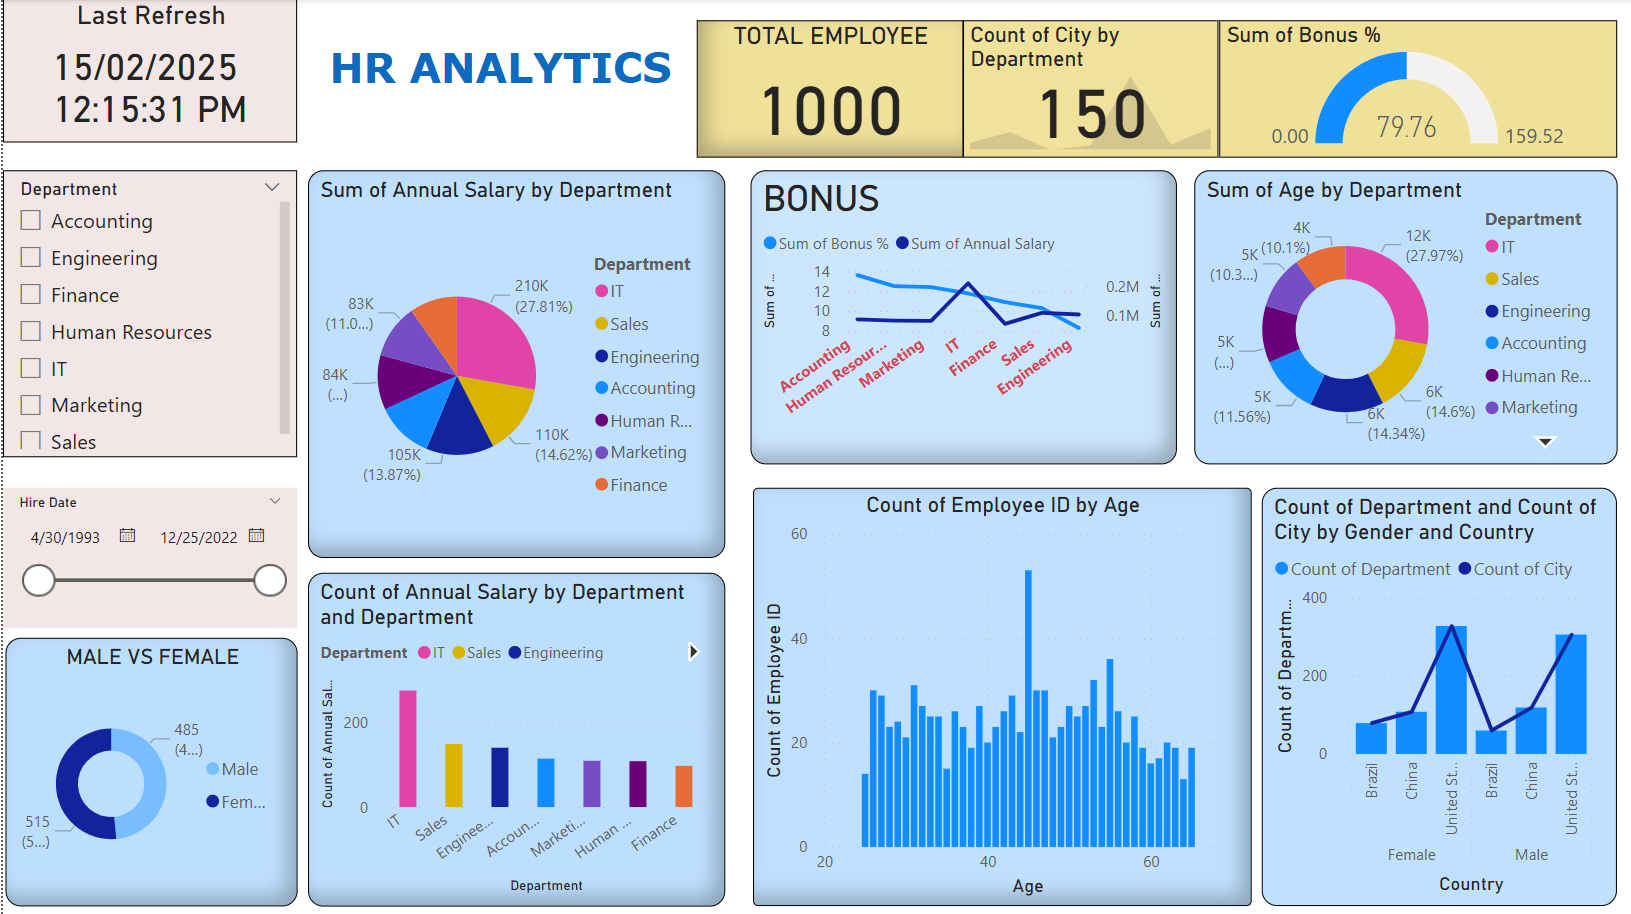

Layout of this report page (visuals, bound fields, positions):
{"tool":"powerbi","page":{"name":"HR Analysis","canvas":[1280,720],"ordinal":0},"visuals":[{"type":"card","title":"TOTAL EMPLOYEE","fields":{"Values":["Count(Employee Data.Employee ID)"]},"box":[545.4,16.3,209.3,108.1],"z":0},{"type":"lineChart","title":"BONUS","fields":{"Category":["Employee Data.Department"],"Y":["Sum(Employee Data.Bonus %)"],"Y2":["Sum(Employee Data.Annual Salary)"]},"box":[587.2,134.9,334.9,231.4],"z":1000},{"type":"donutChart","title":"MALE VS FEMALE","fields":{"Y":["Employee Data.Measure","Employee Data.Measure 2"]},"box":[2.3,502.3,229.1,217.4],"z":4000},{"type":"clusteredColumnChart","fields":{"Category":["Employee Data.Age"],"Y":["CountNonNull(Employee Data.Employee ID)"]},"box":[589.5,383.7,391.9,320.9],"z":5000},{"type":"pieChart","fields":{"Category":["Employee Data.Department"],"Y":["Sum(Employee Data.Annual Salary)"]},"box":[239.5,134.9,327.9,304.7],"z":7000},{"type":"ribbonChart","fields":{"Category":["Employee Data.Department"],"Y":["CountNonNull(Employee Data.Annual Salary)"],"Series":["Employee Data.Department"]},"box":[239.5,451.2,327.9,253.5],"z":8000},{"type":"kpi","fields":{"Indicator":["CountNonNull(Employee Data.City)"],"TrendLine":["Employee Data.Department"]},"box":[754.7,16.3,201.2,108.1],"z":9000},{"type":"gauge","fields":{"Y":["Sum(Employee Data.Bonus %)"]},"box":[955.8,16.3,312.8,108.1],"z":10000},{"type":"slicer","fields":{"Values":["Employee Data.Department"]},"box":[0,134.9,231.4,225.6],"z":10001},{"type":"donutChart","fields":{"Category":["Employee Data.Department"],"Y":["Sum(Employee Data.Age)"]},"box":[936,134.9,332.6,231.4],"z":10002},{"type":"card","title":"Last Refresh ","fields":{"Values":["Min(Query1.Column1)"]},"box":[0,0,231.4,112.8],"z":10003},{"type":"slicer","fields":{"Values":["Employee Data.Hire Date"]},"box":[0,383.7,231.4,110.5],"z":10004},{"type":"textbox","box":[251.2,29.1,291.9,57],"z":10005},{"type":"lineStackedColumnComboChart","fields":{"Y":["CountNonNull(Employee Data.Department)"],"Category":["Employee Data.Gender","Employee Data.Country"],"Y2":["CountNonNull(Employee Data.City)"]},"box":[989.5,383.7,279.1,320.9],"z":10006}]}

Visuals, with their boxes in screenshot pixels (x1, y1, x2, y2), scaled from the page's 1280x720 canvas onto the 1631x914 screenshot:
"TOTAL EMPLOYEE" card: bbox=[695, 21, 962, 158]
"BONUS" lineChart: bbox=[748, 171, 1175, 465]
"MALE VS FEMALE" donutChart: bbox=[3, 638, 295, 913]
clusteredColumnChart - Employee Data.Age x CountNonNull(Employee Data.Employee ID): bbox=[751, 487, 1251, 894]
pieChart - Employee Data.Department x Sum(Employee Data.Annual Salary): bbox=[305, 171, 723, 558]
ribbonChart - Employee Data.Department x CountNonNull(Employee Data.Annual Salary): bbox=[305, 573, 723, 895]
kpi - CountNonNull(Employee Data.City) x Employee Data.Department: bbox=[962, 21, 1218, 158]
gauge - Sum(Employee Data.Bonus %): bbox=[1218, 21, 1616, 158]
slicer - Employee Data.Department: bbox=[0, 171, 295, 458]
donutChart - Employee Data.Department x Sum(Employee Data.Age): bbox=[1193, 171, 1616, 465]
"Last Refresh " card: bbox=[0, 0, 295, 143]
slicer - Employee Data.Hire Date: bbox=[0, 487, 295, 627]
textbox: bbox=[320, 37, 692, 109]
lineStackedColumnComboChart - CountNonNull(Employee Data.Department) x Employee Data.Gender: bbox=[1261, 487, 1616, 894]
